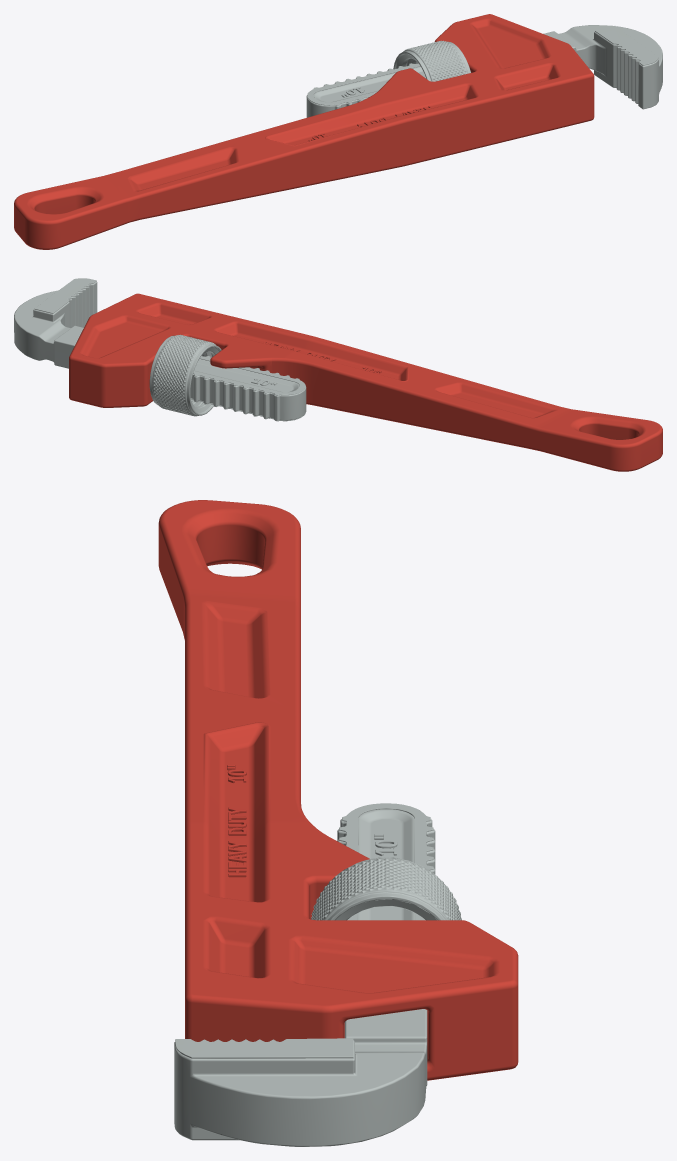
File: handTool_wrench_monkey_a01.glb
The picture shows the model from 3 angles, top to bottom: view 1: azimuth 30°, elevation 25°; view 2: azimuth 150°, elevation 25°; view 3: azimuth 270°, elevation 25°; orthographic projection. The views are drawn at different scales.
Bounding box in the file's own units: 0.2707 × 0.0292 × 0.0689.
